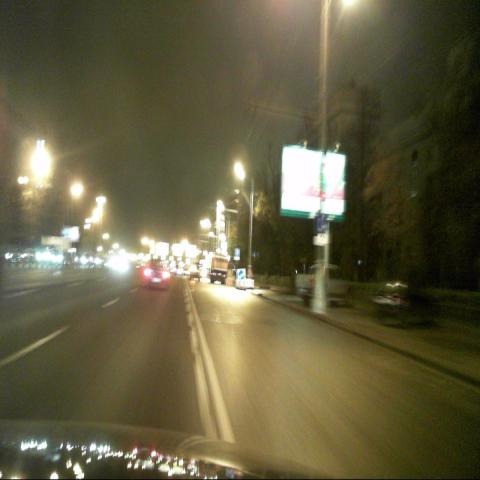5_14: (317, 214, 329, 234)
